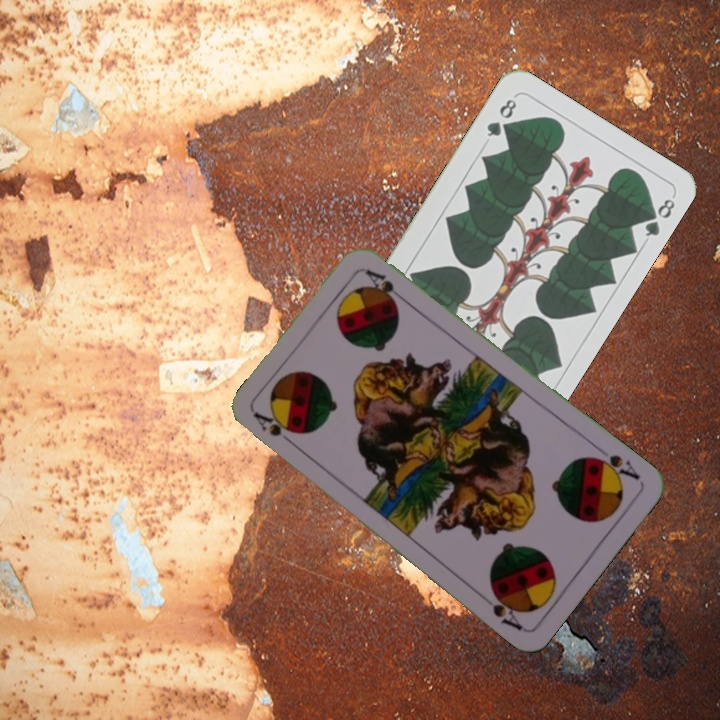G8: (482, 94, 520, 140)
SA: (250, 408, 300, 451), (586, 450, 643, 485)
